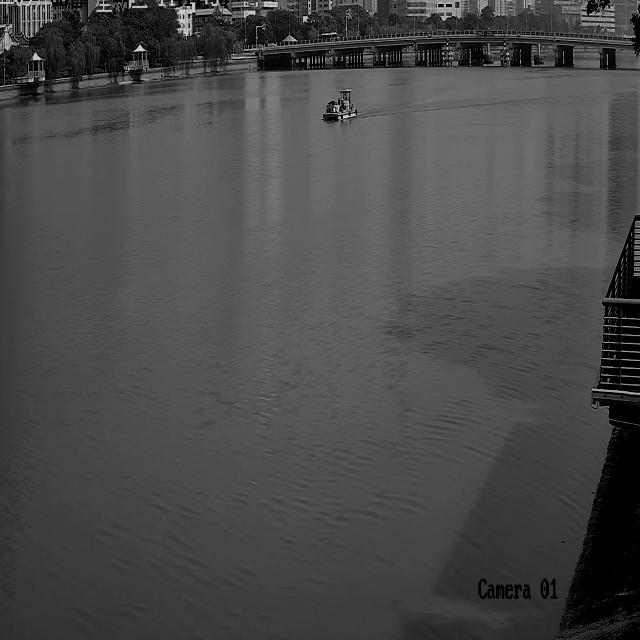ship: (322, 87, 357, 119)
